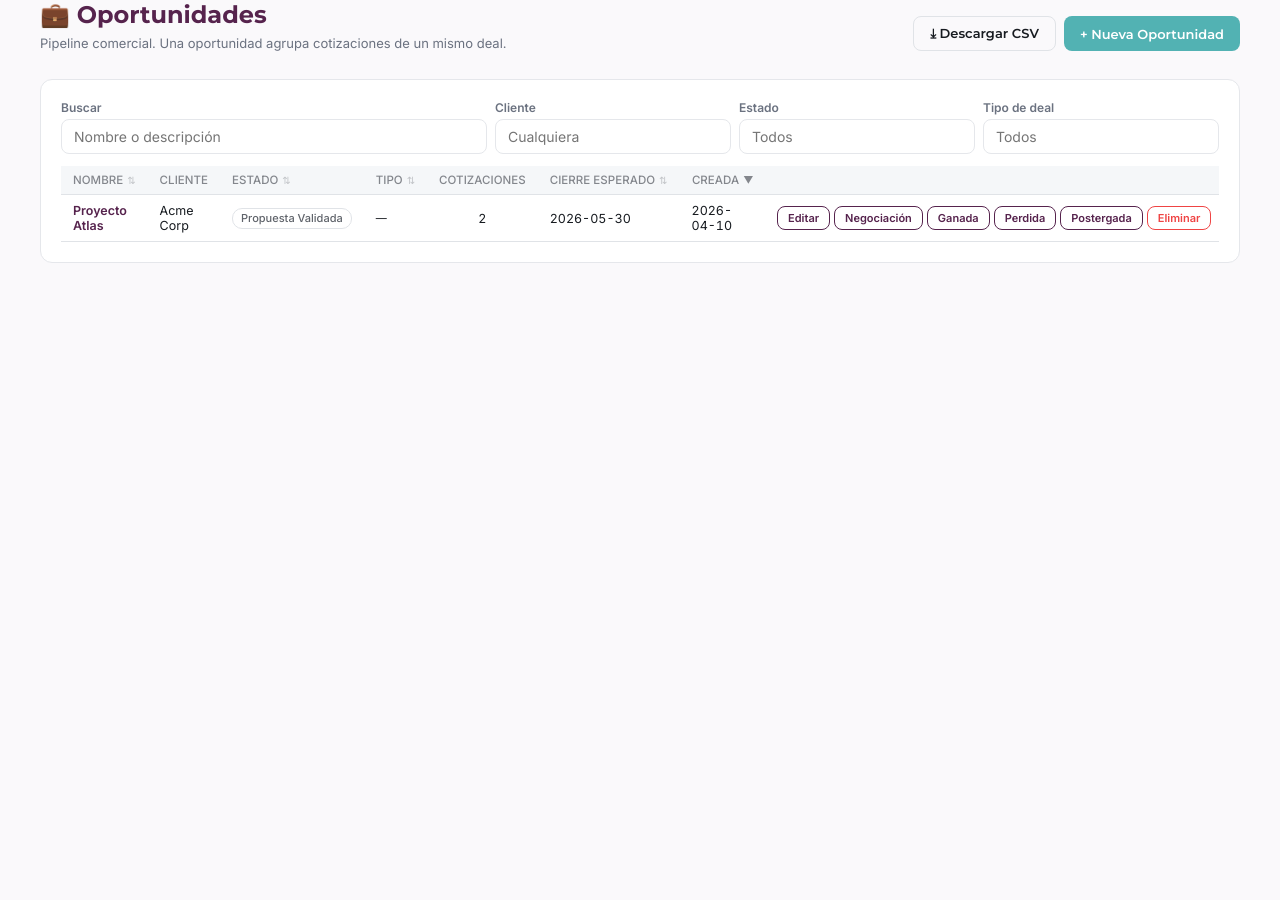
Test case: Opportunities module › shows validation error when the client is not selected
Expected: the link "Proyecto Atlas" is shown, [73,203,127,233]
Click the button "+ Nueva Oportunidad". click: (1152, 34)
box: [1064,16,1240,51]
(page scrolled)
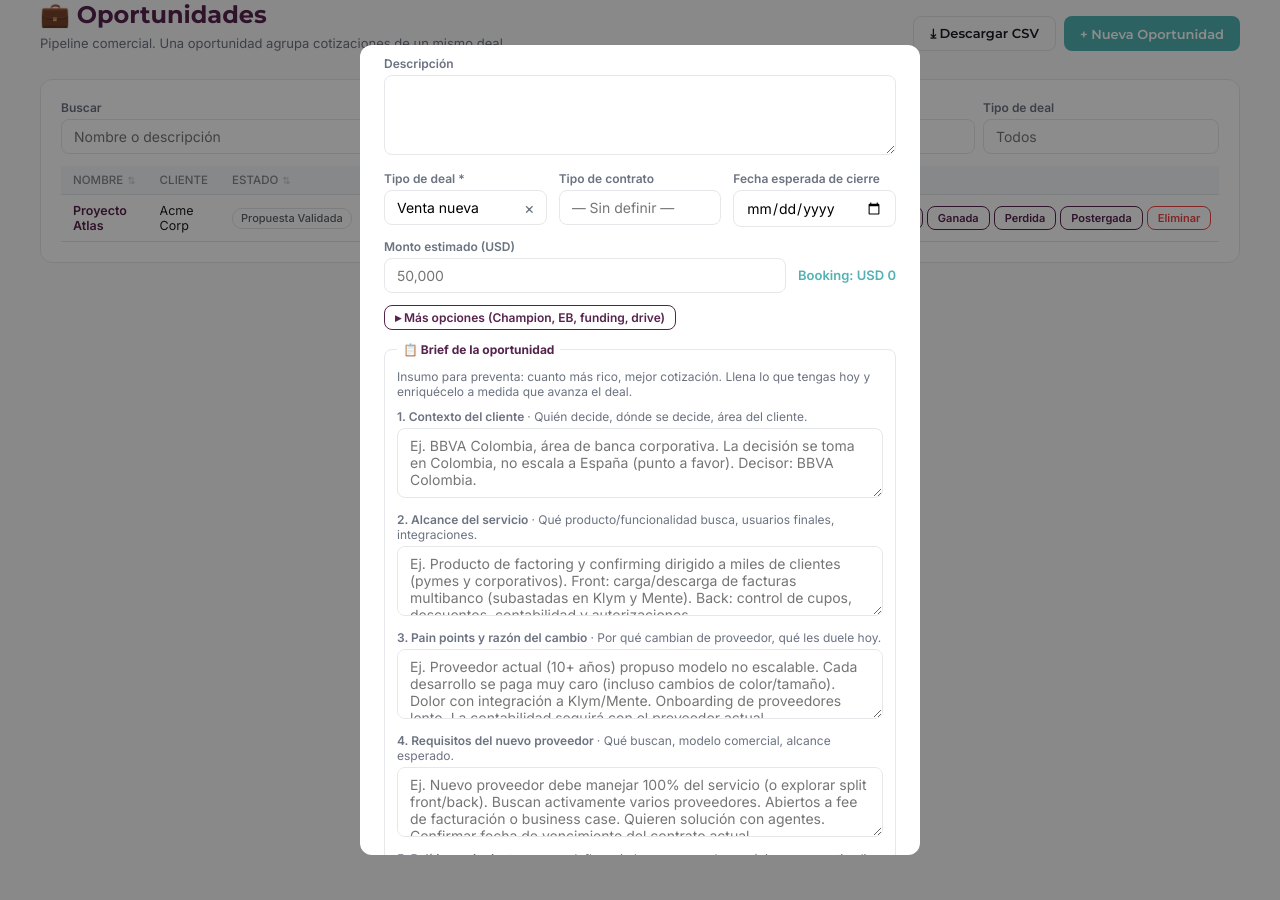
Submit the form named "Guardar"
(page scrolled)
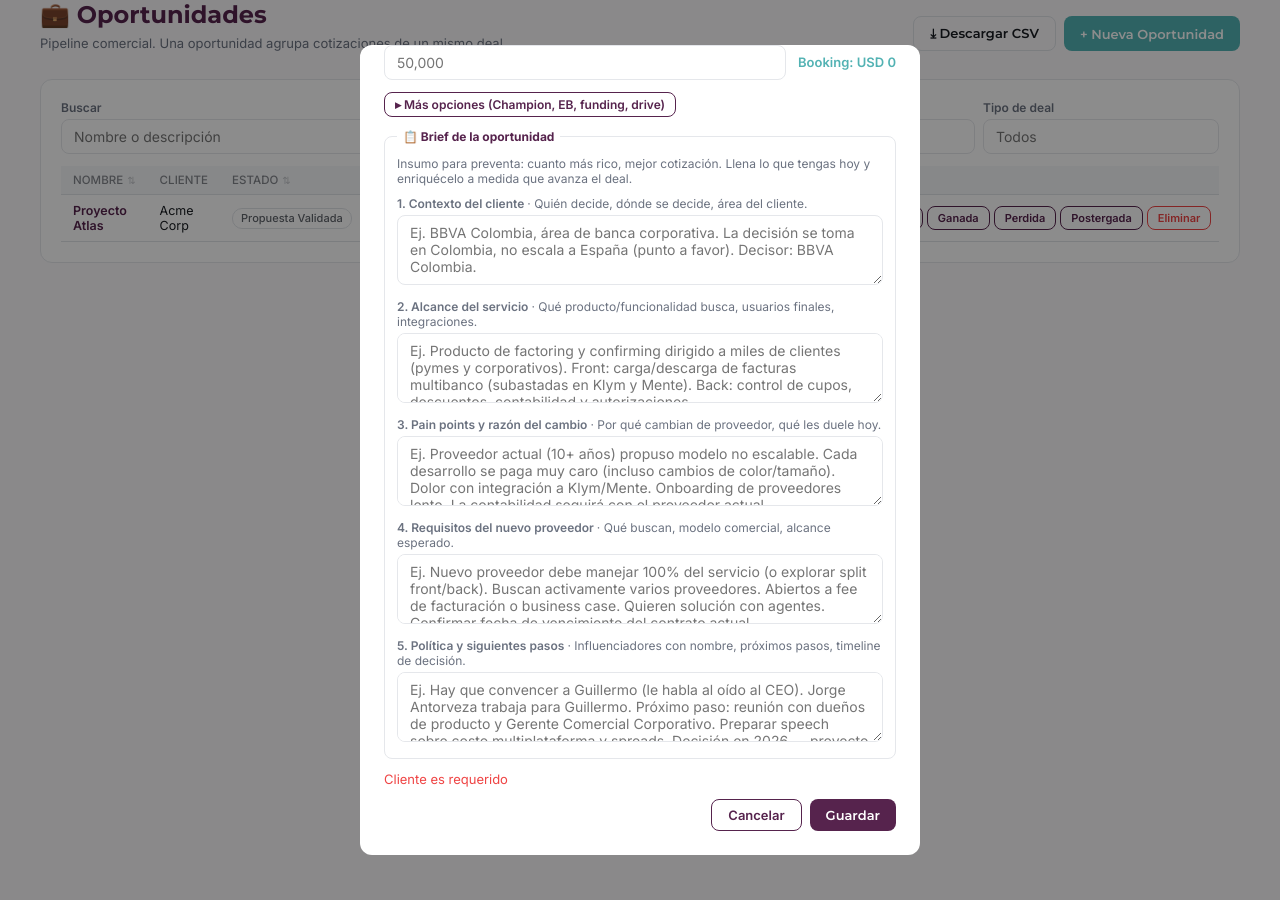
Result: the text "Cliente es requerido" is shown at [384,771,508,787]
